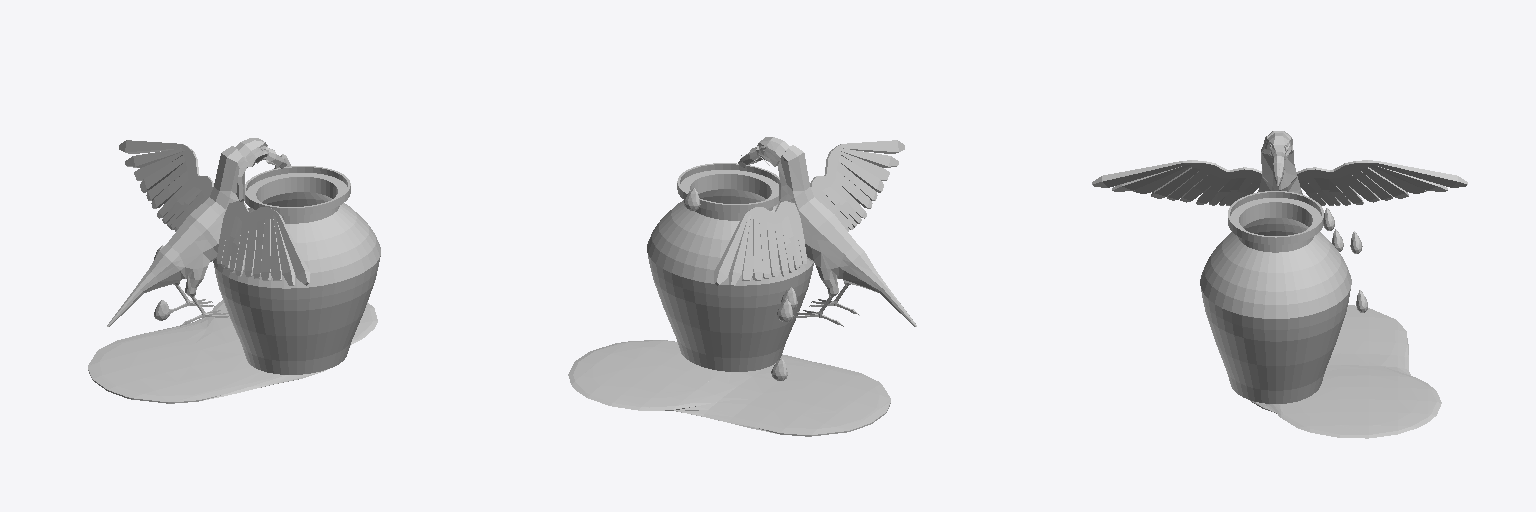
File: bheegahuakaua6.obj
3 renders of one model, left to right at view 1: azimuth 30°, elevation 25°; view 2: azimuth 150°, elevation 25°; view 3: azimuth 270°, elevation 25°, orthographic.
Visible parts, largest first — view 1: Circle, Cylinder, Mball; view 2: Circle, Mball, Cylinder; view 3: Circle, Mball, Cylinder.
Part boxes in pixels (x1,y1,x2,y2): Circle: (213,166,380,374); Cylinder: (107,138,309,326); Mball: (88,300,377,403); Circle: (647,163,813,371); Mball: (568,340,890,436); Cylinder: (714,137,916,326); Circle: (1200,191,1351,403); Mball: (1250,305,1441,438); Cylinder: (1092,131,1467,205).
Bounding box in the file's own units: 1.18 × 0.8905 × 1.28.